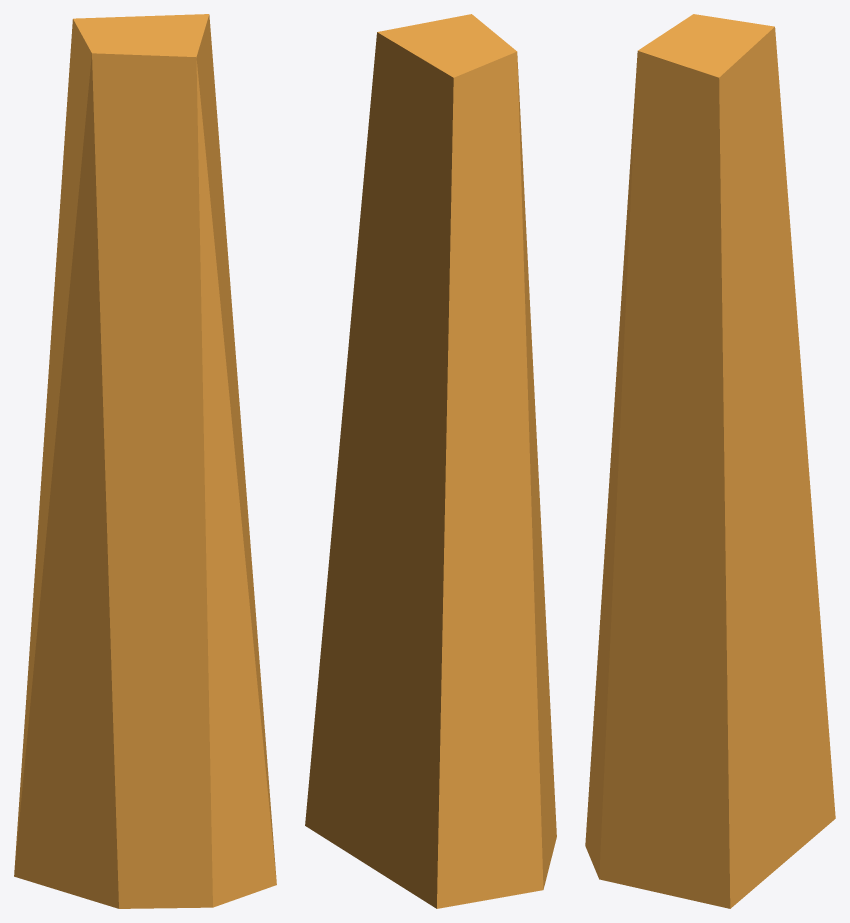
3 views of the same model, side by side, from view 1: azimuth 30°, elevation 25°; view 2: azimuth 150°, elevation 25°; view 3: azimuth 270°, elevation 25° (orthographic). The views are drawn at different scales.
Visible parts, largest first — view 1: Cube.010; view 2: Cube.010; view 3: Cube.010.
Part boxes in pixels (<box>): Cube.010: <box>14,14,276,908</box>; Cube.010: <box>305,14,556,908</box>; Cube.010: <box>585,14,835,908</box>.
Size of the model in its own units: 0.2114 by 0.6669 by 0.1889.
